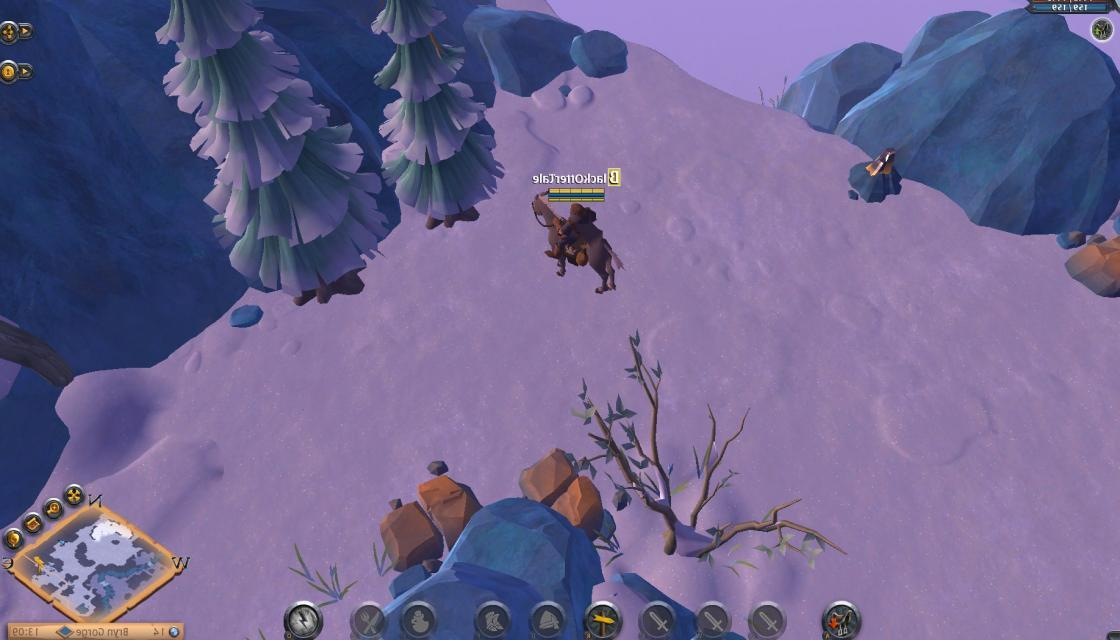copperore: (845, 148, 911, 202)
limestone: (382, 462, 482, 581), (520, 444, 607, 542), (1062, 232, 1120, 302)
